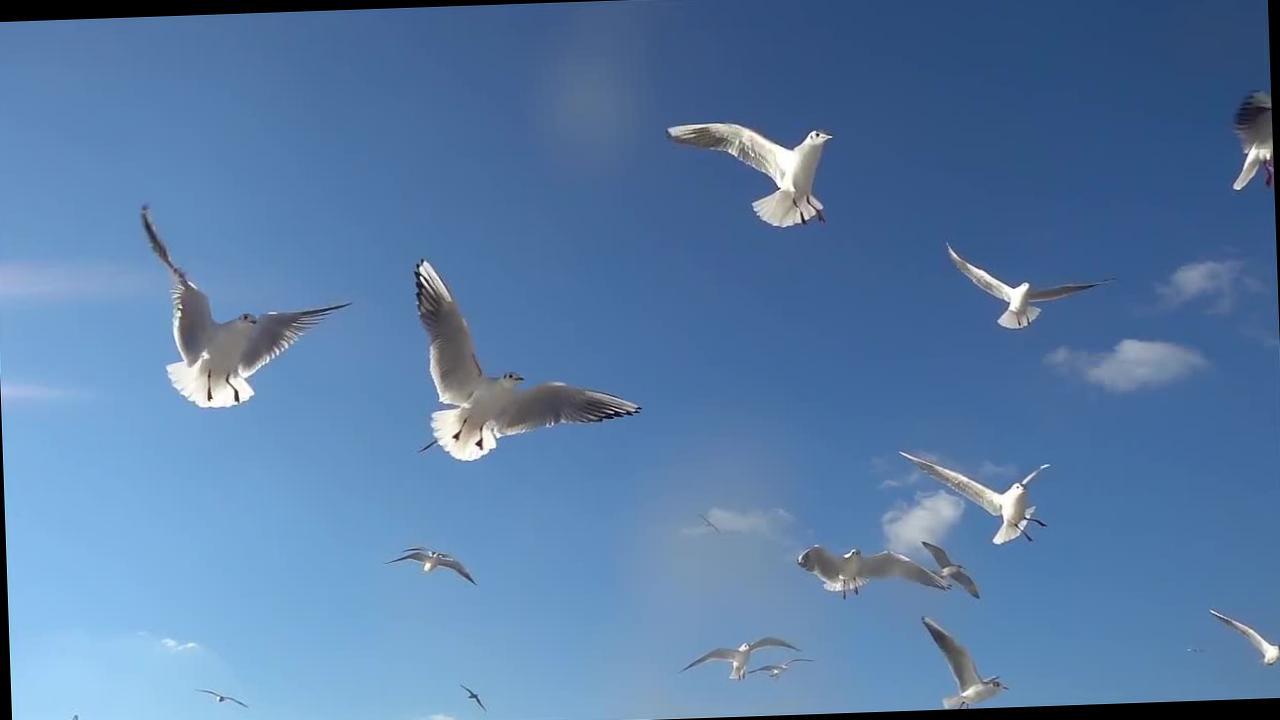bird: (110, 173, 366, 444), (402, 237, 656, 485), (658, 101, 862, 234), (932, 222, 1142, 340), (377, 529, 506, 598)
